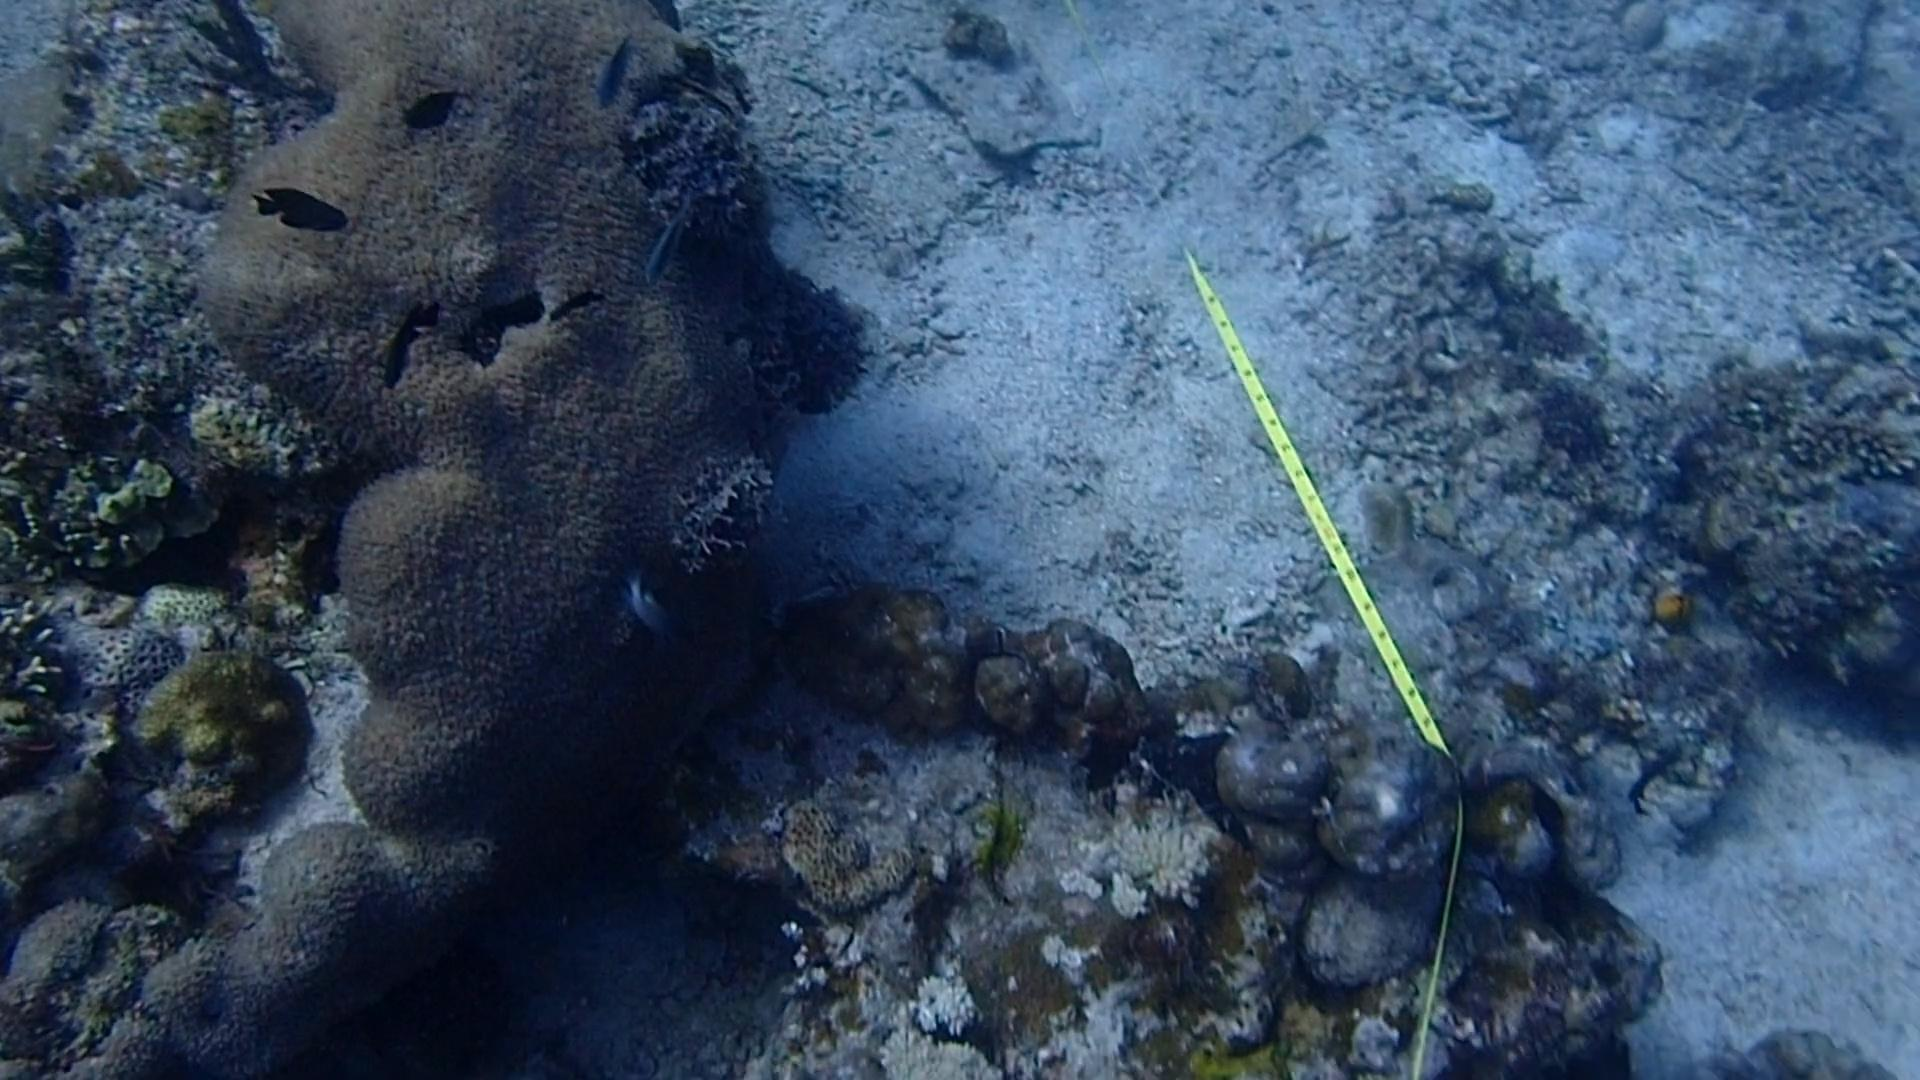Dark Fish: (236, 181, 363, 249), (1621, 728, 1704, 823), (365, 295, 443, 389), (377, 74, 481, 138), (543, 281, 609, 338)
Light Fish: (634, 181, 704, 294), (607, 566, 694, 649), (589, 32, 645, 109)
